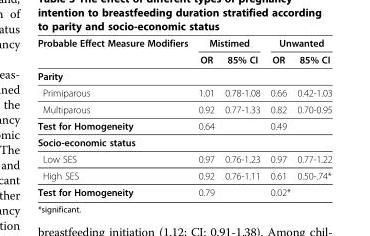table: (36, 36, 331, 197)
table column: (36, 36, 192, 197), (219, 36, 264, 197), (293, 36, 331, 197), (264, 36, 293, 197), (192, 36, 219, 197)
table column header: (36, 36, 331, 67)
table projected row header: (36, 67, 331, 84), (36, 133, 331, 150)
table row: (36, 50, 331, 67), (36, 67, 331, 84), (36, 100, 331, 117), (36, 133, 331, 150), (36, 150, 331, 167), (36, 84, 331, 100), (36, 117, 331, 133), (36, 167, 331, 183), (36, 36, 331, 50), (36, 183, 331, 197)
table spanning cell: (36, 36, 192, 67), (192, 36, 264, 50), (264, 36, 331, 50)
